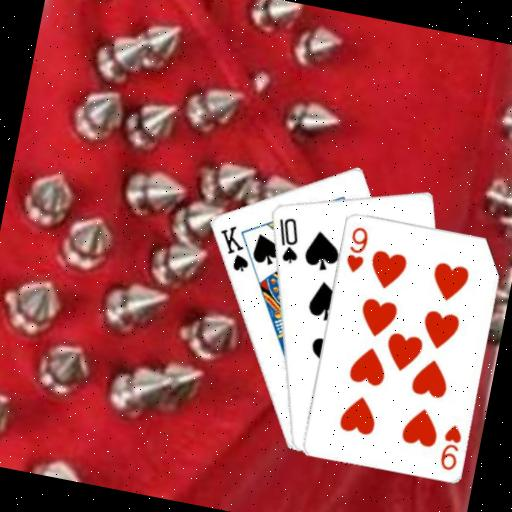10S: (268, 211, 307, 266)
9H: (341, 222, 372, 276), (435, 420, 466, 473)
KS: (210, 220, 258, 275)
